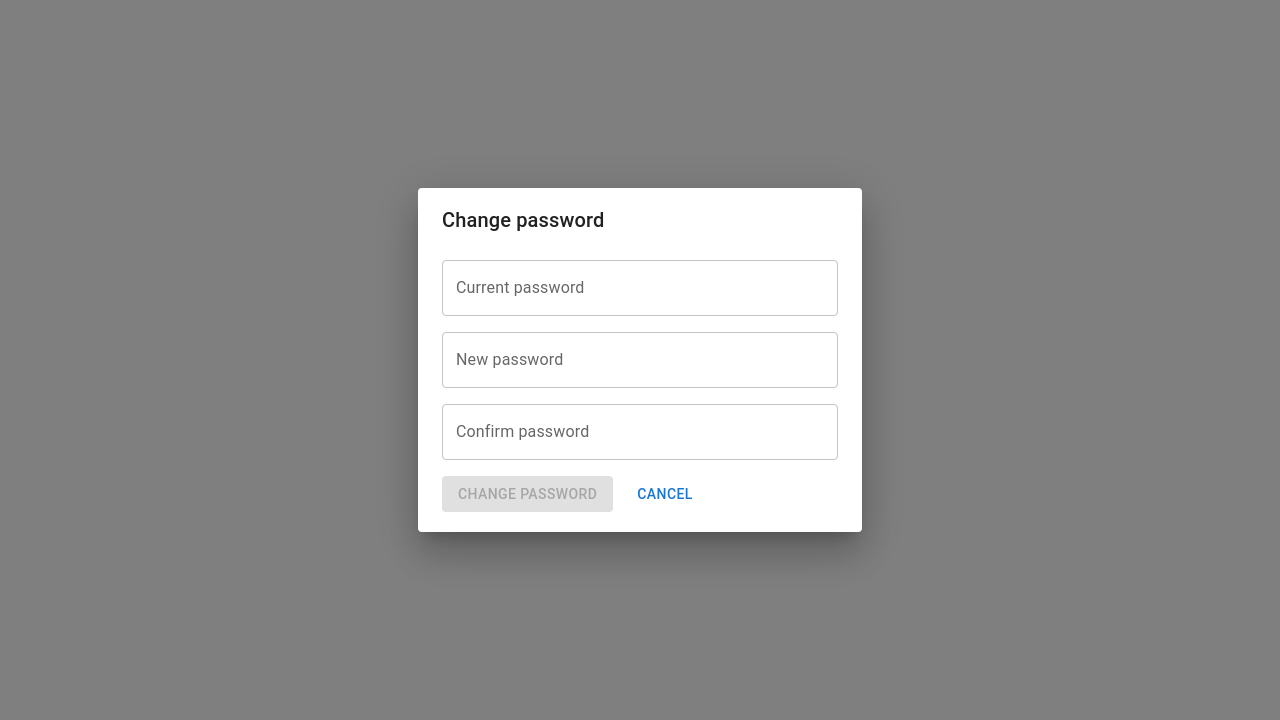
Test: ChangePasswordDialog › renders the error from AuthContext and keeps the dialog open
Type "WrongPass!" into the password field labelled "Current password" at [640, 288], box [442,260,838,316]
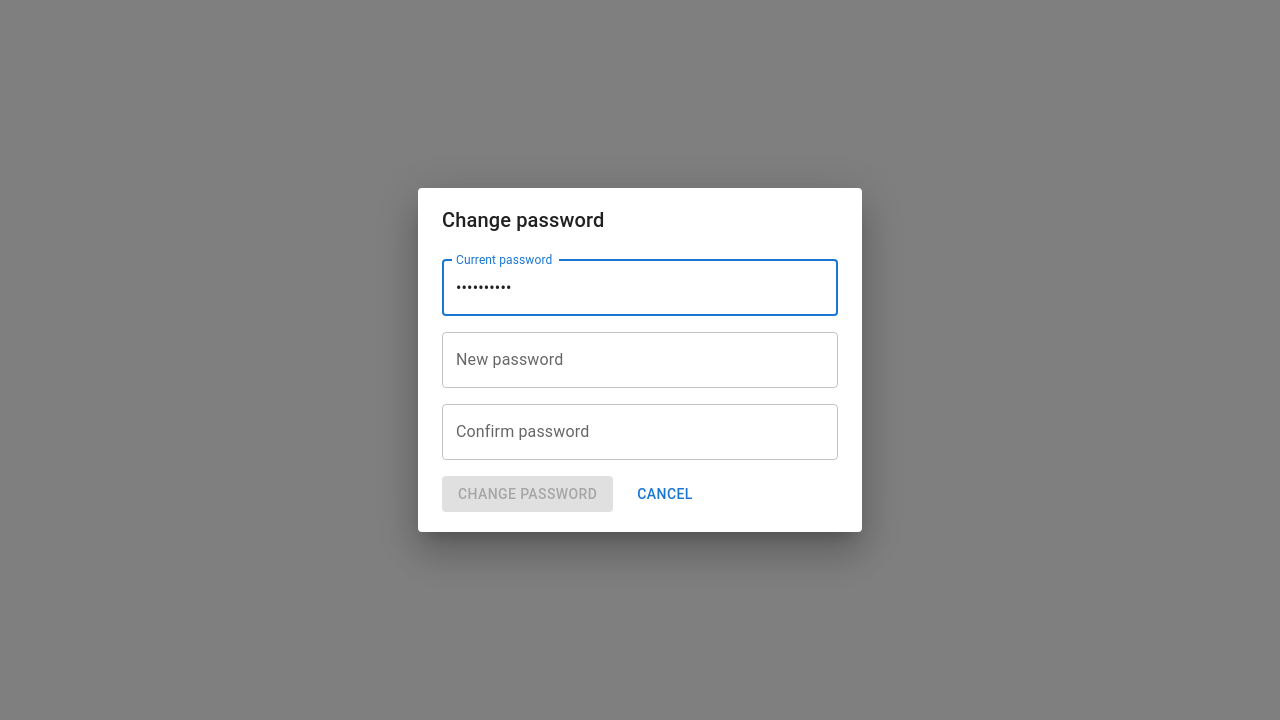
Type "BrandNewPass1!" into the password field labelled "New password" at [640, 360], box [442,332,838,388]
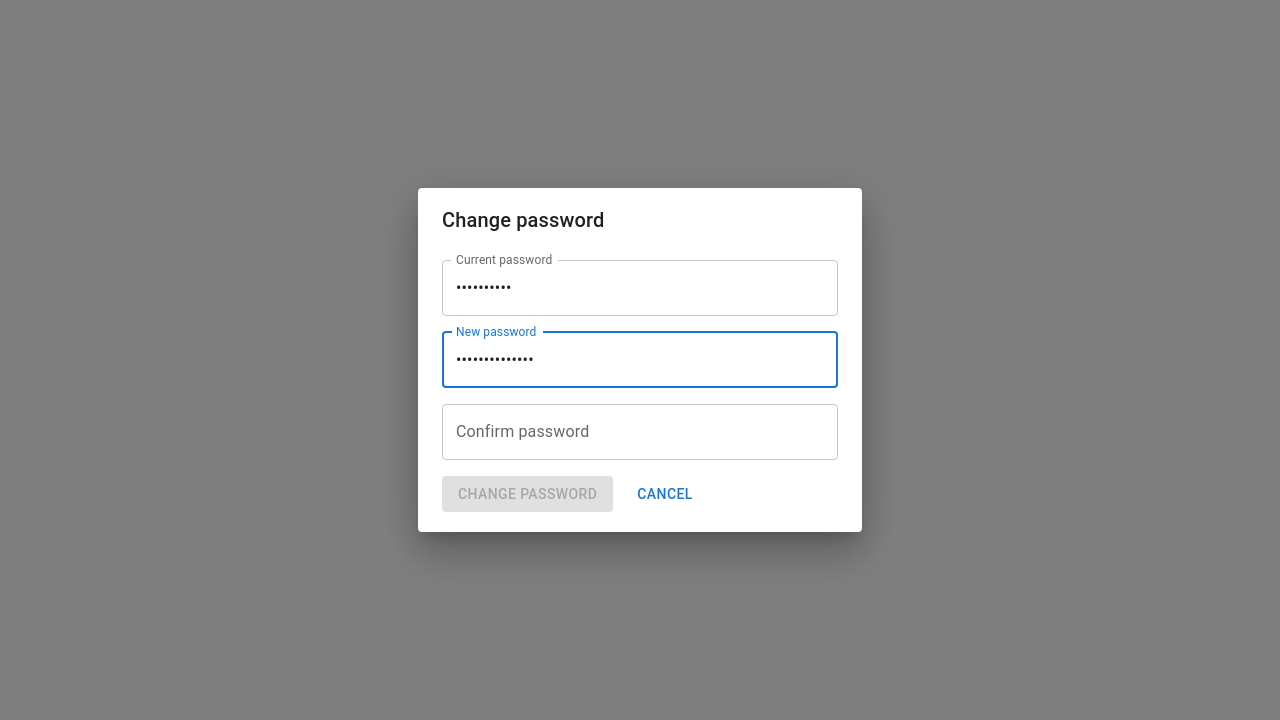
Type "BrandNewPass1!" into the password field labelled "Confirm" at [640, 432], box [442,404,838,460]
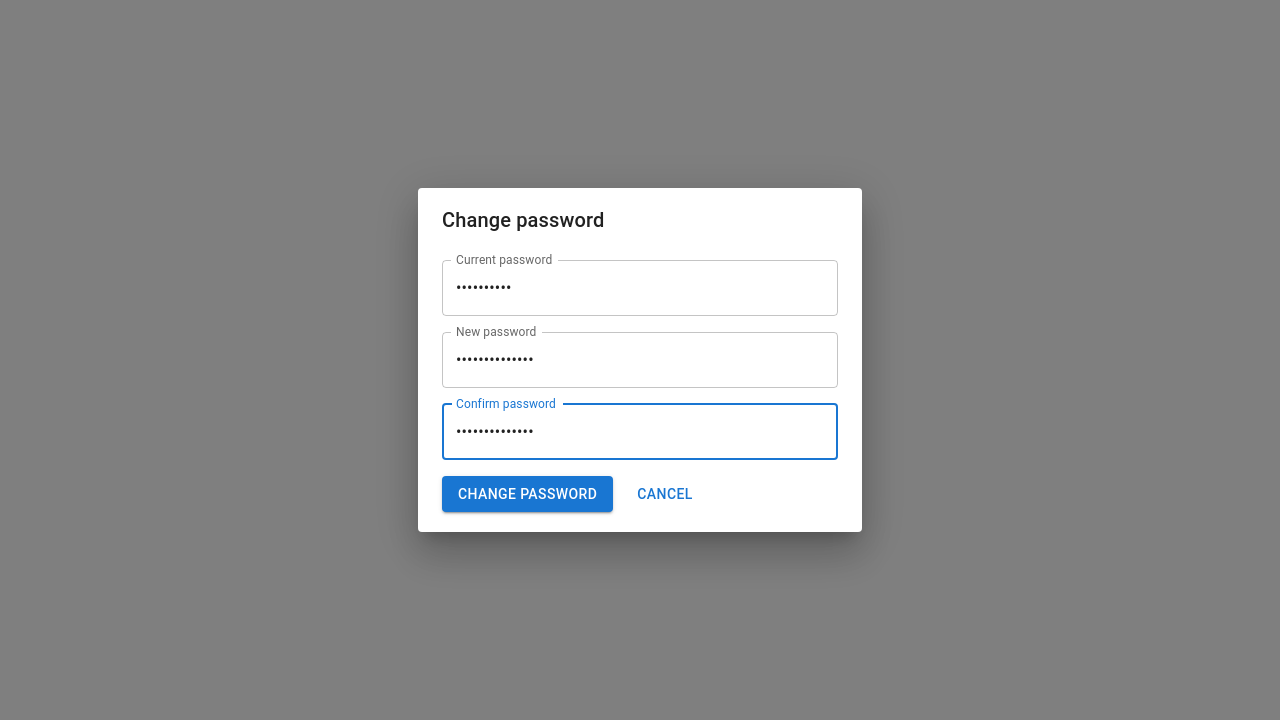
Click the button "Change password" at [528, 494], box [442,476,613,512]
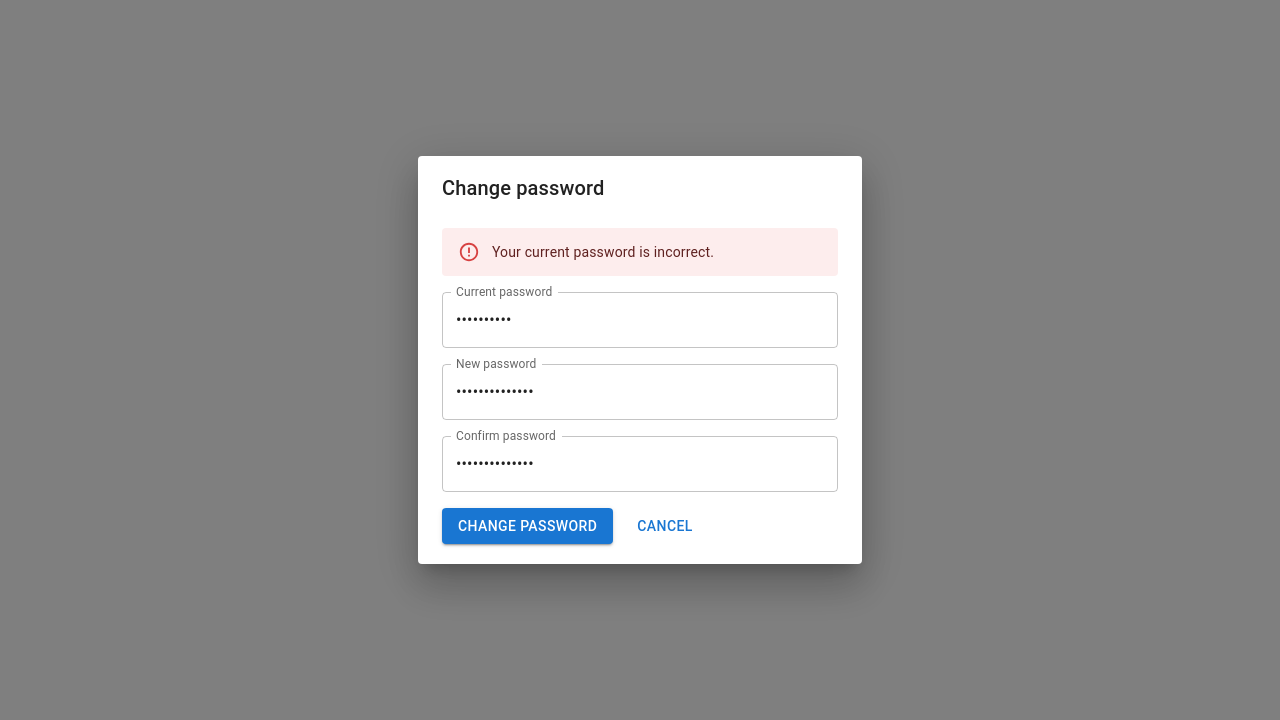
Expected: the message reads "Your current password is incorrect.", [492,244,714,260]
